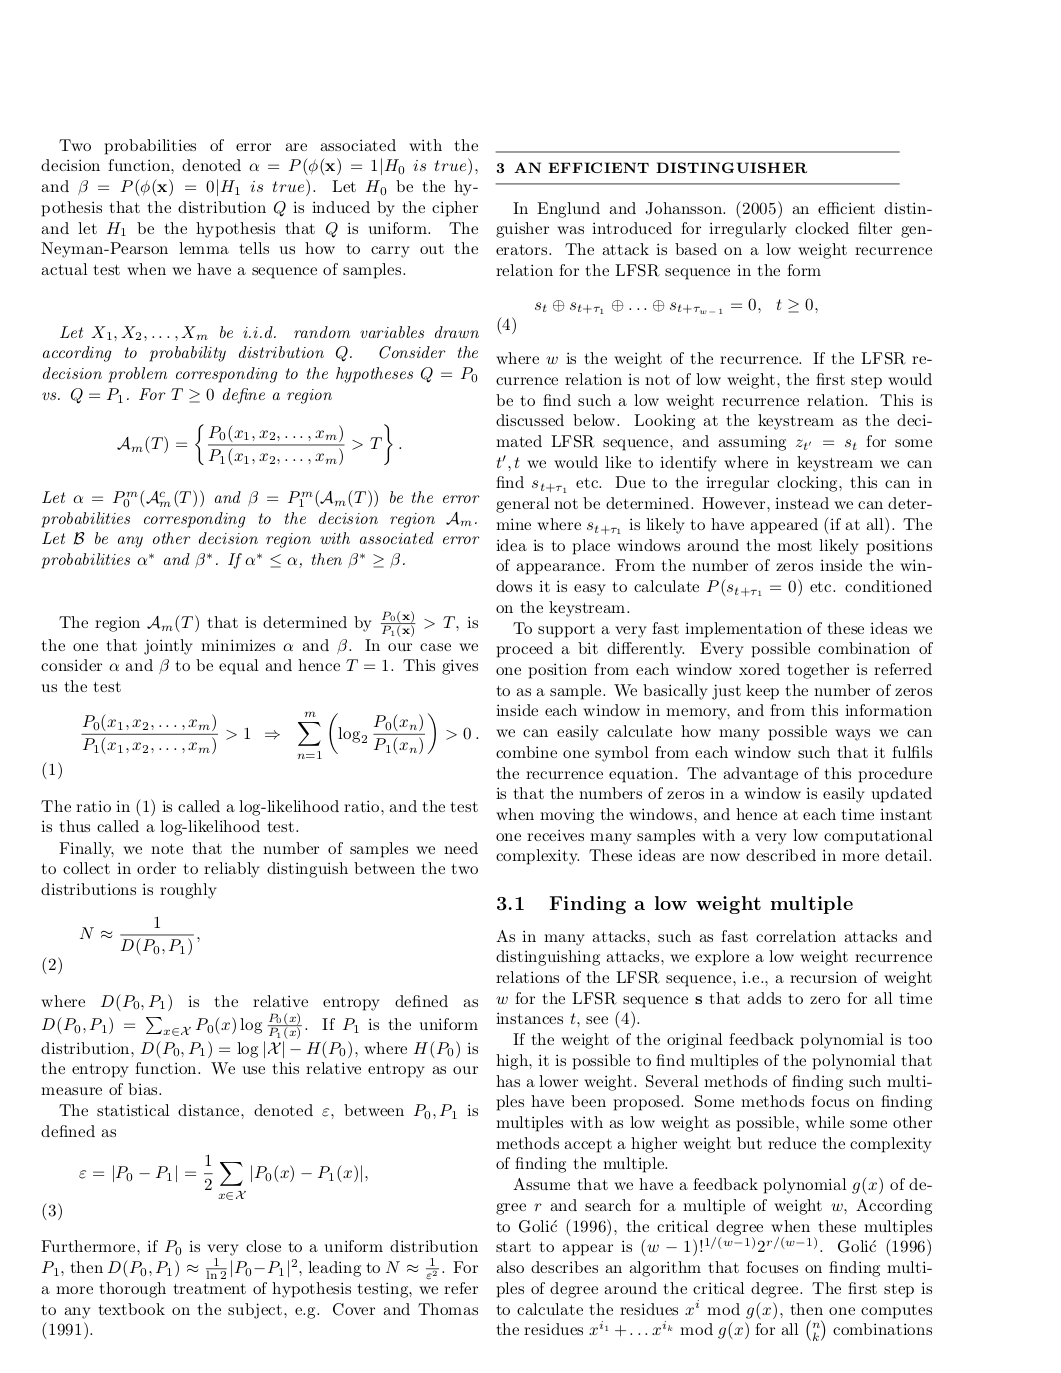formula: (81, 710, 478, 759), (79, 1153, 367, 1200), (117, 422, 401, 466), (535, 296, 817, 314), (79, 916, 199, 955)
